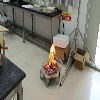fire: (45, 41, 56, 70)
